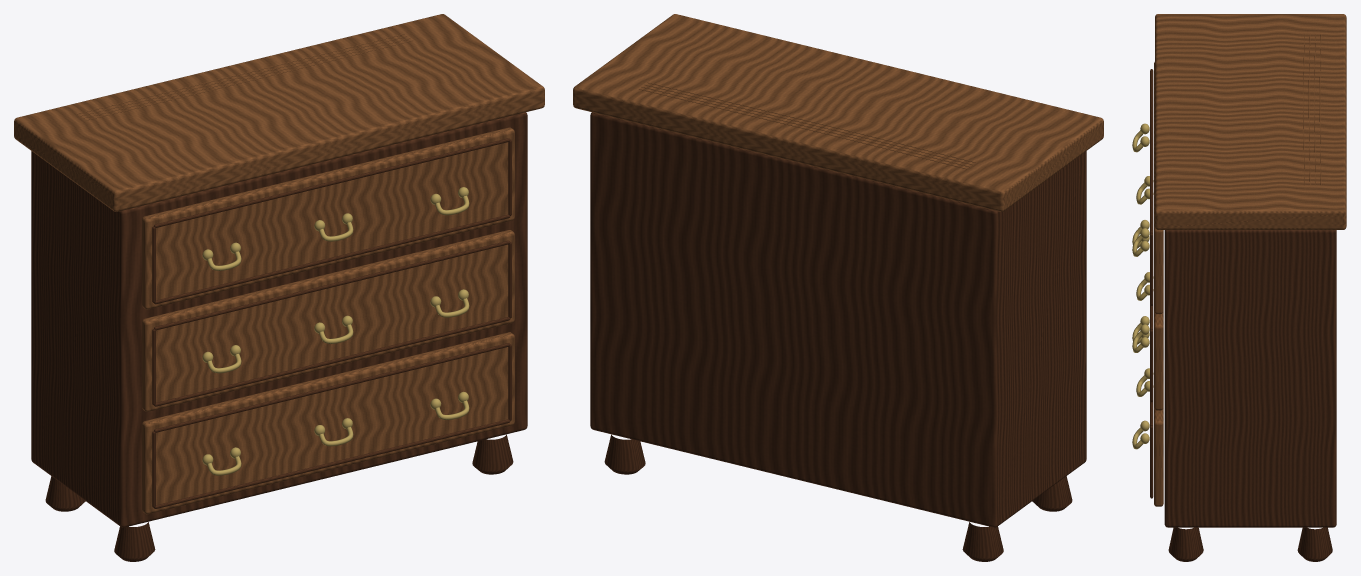
Rendered from dresser.glb.
3 views of the same model, side by side, from view 1: azimuth 30°, elevation 25°; view 2: azimuth 150°, elevation 25°; view 3: azimuth 270°, elevation 25° (orthographic). The views are drawn at different scales.
Visible parts, largest first — view 1: dresser; view 2: dresser; view 3: dresser.
Boxes of the visible parts, x1,y1,x2,y2 form: dresser: (14,14,544,561); dresser: (573,14,1103,561); dresser: (1132,14,1346,561).
Bounding box in the file's own units: 1.05 × 0.9 × 0.48.
3 materials, 2 textured.
